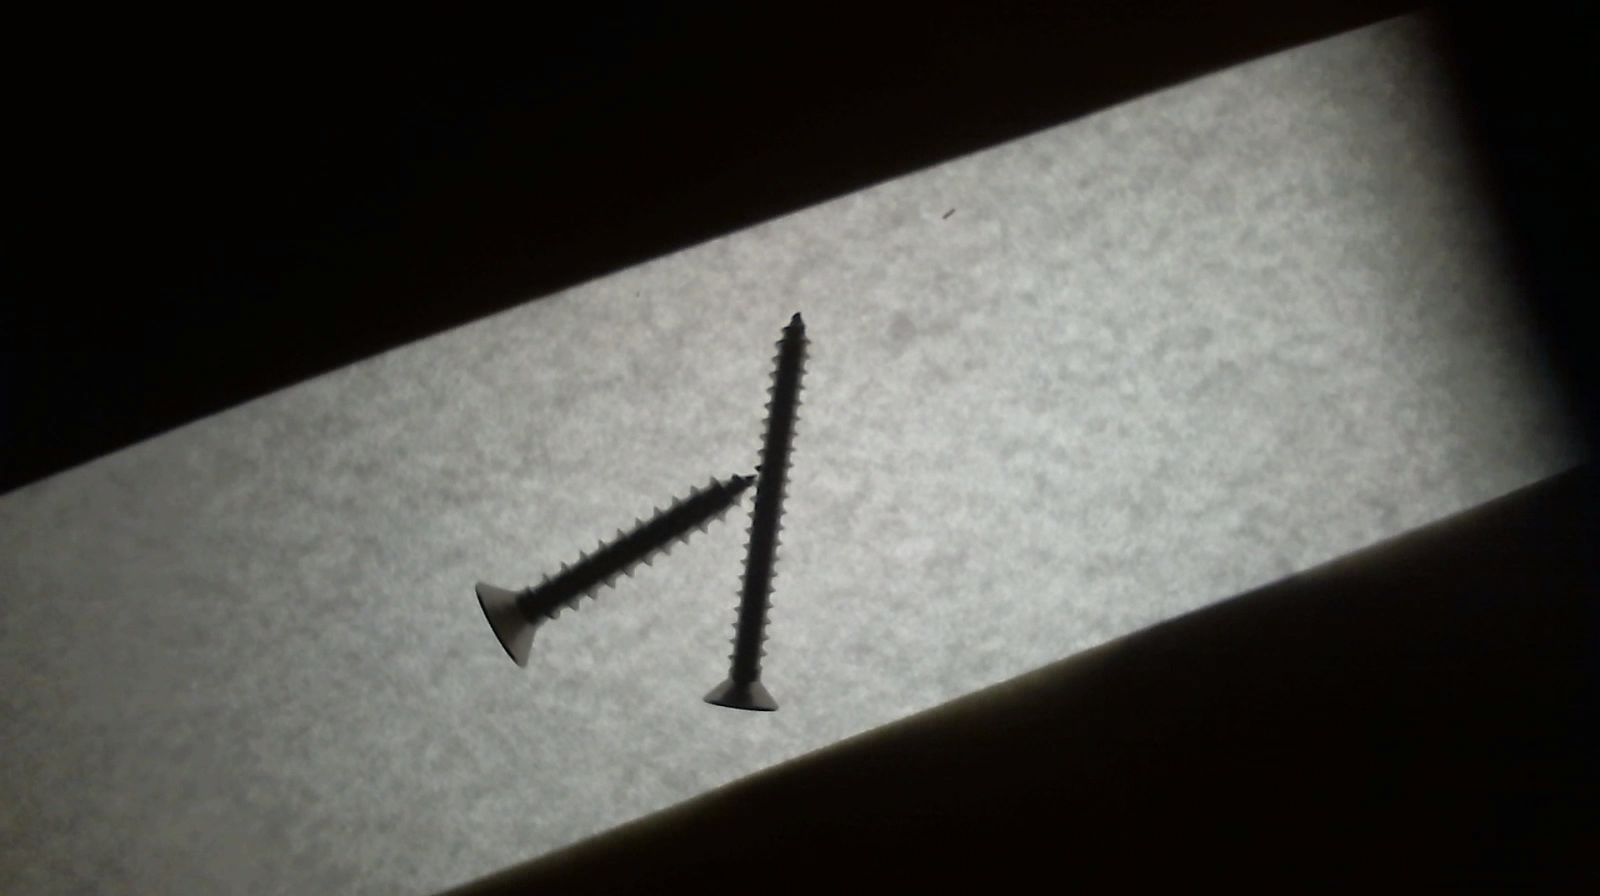S001: (456, 461, 769, 667)
S002: (698, 305, 809, 728)
